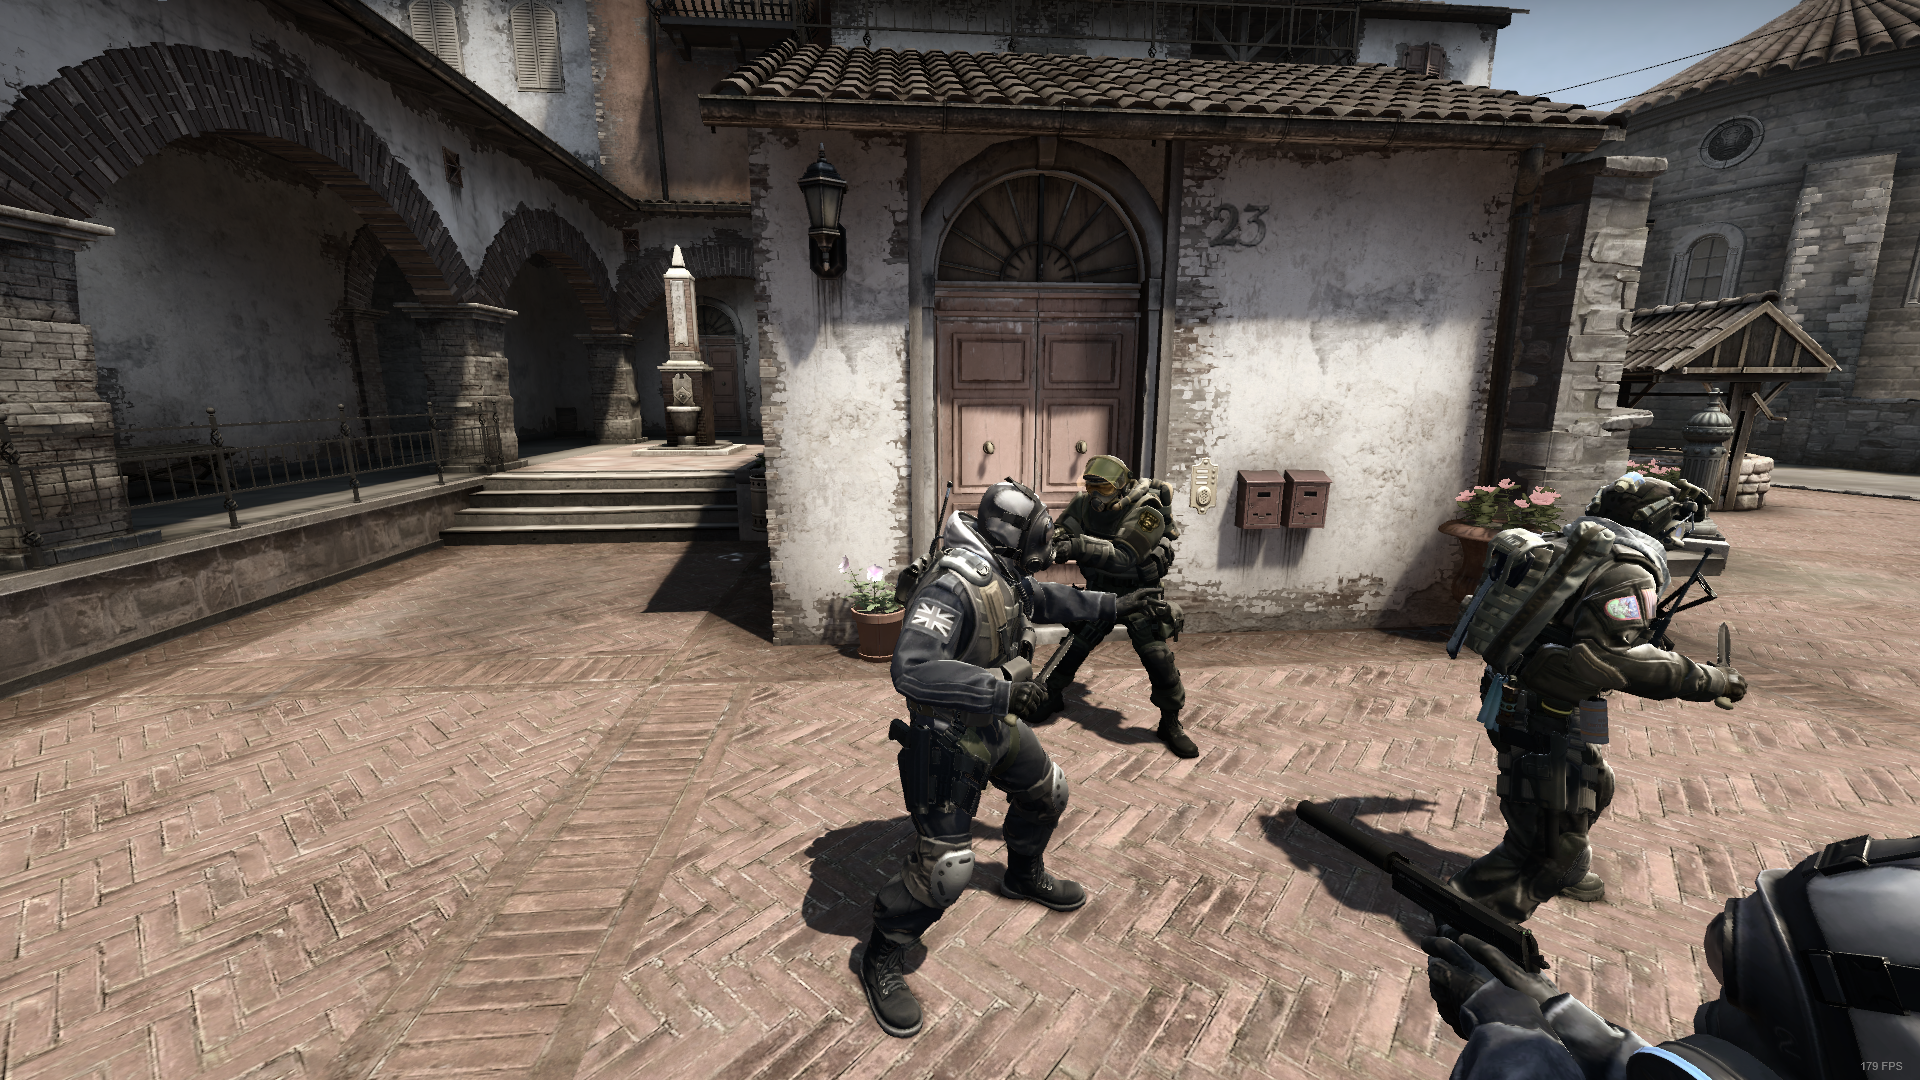ct: (857, 477, 1170, 1036)
